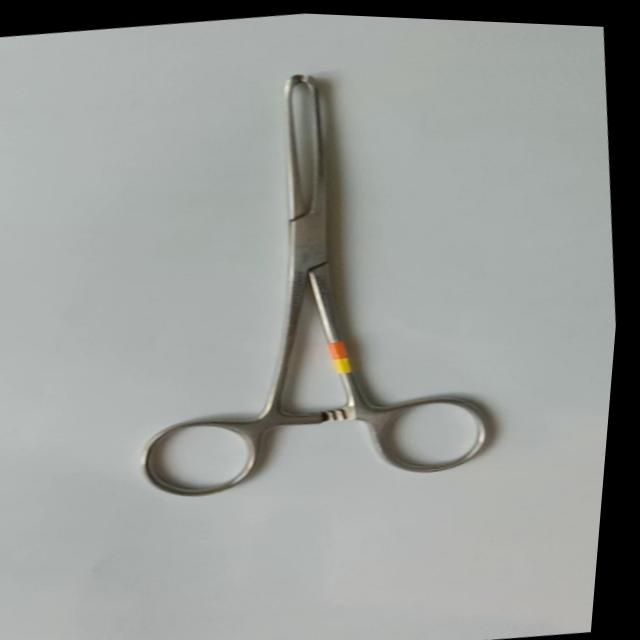AllisForcep: (91, 37, 531, 511)
